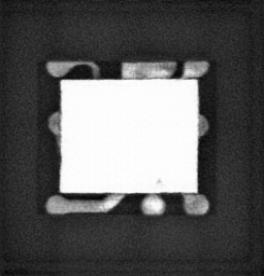DIE_INK: (154, 176, 163, 184)
